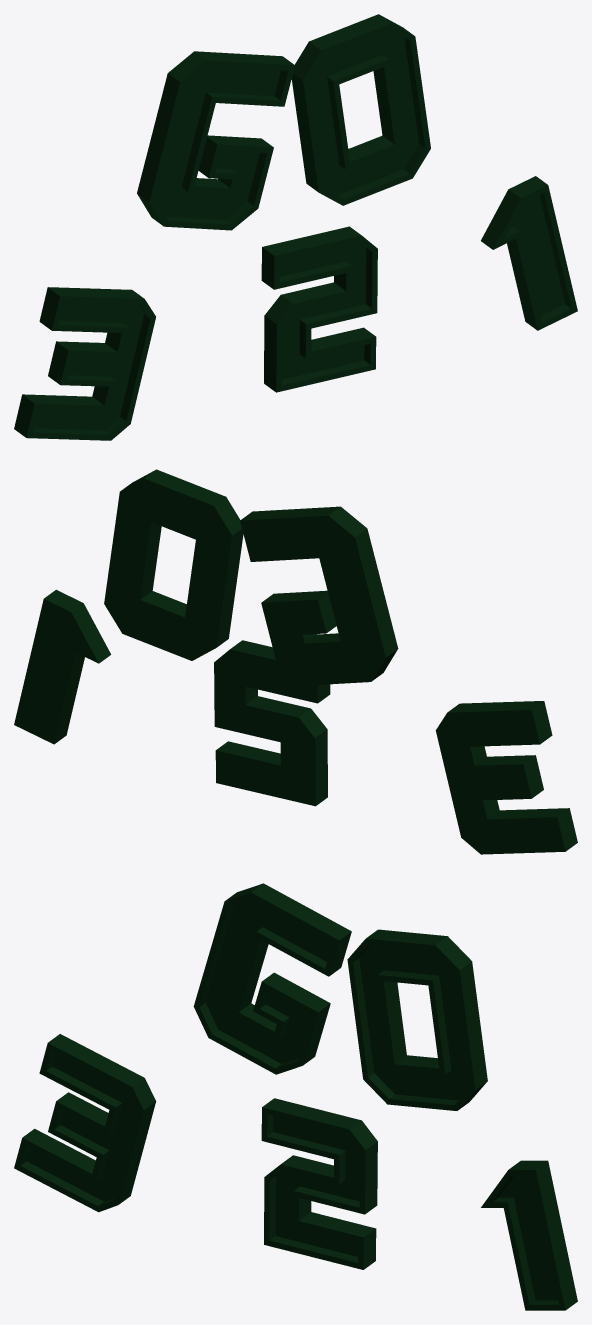
3 views of the same model, one above another, from view 1: azimuth 30°, elevation 25°; view 2: azimuth 150°, elevation 25°; view 3: azimuth 330°, elevation 25° (orthographic).
Parts seen in each view (by area): view 1: Object002; view 2: Object002; view 3: Object002.
Boxes of the visible parts, box(x1,y1,x2,y2) form: Object002: box(14, 14, 577, 440); Object002: box(14, 469, 577, 854); Object002: box(14, 883, 577, 1310).
Bounding box in the file's own units: 1937 × 1105 × 248.
